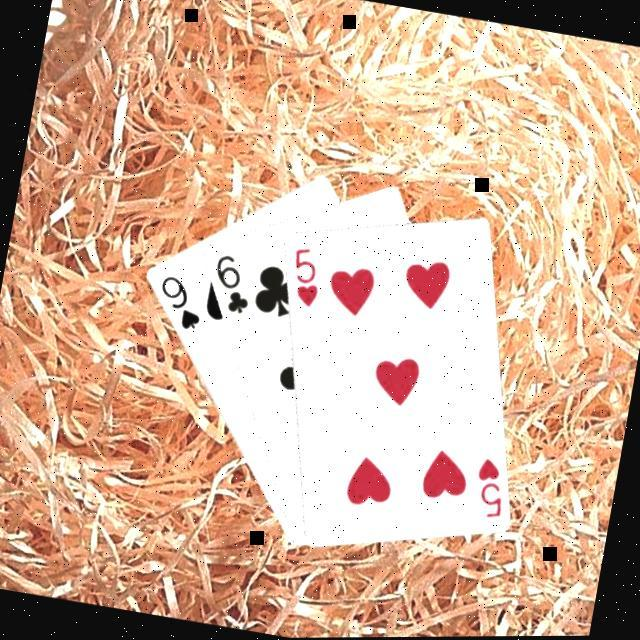5H: (467, 454, 514, 526), (282, 244, 330, 312)
6C: (204, 251, 260, 320)
9S: (150, 272, 210, 336)
